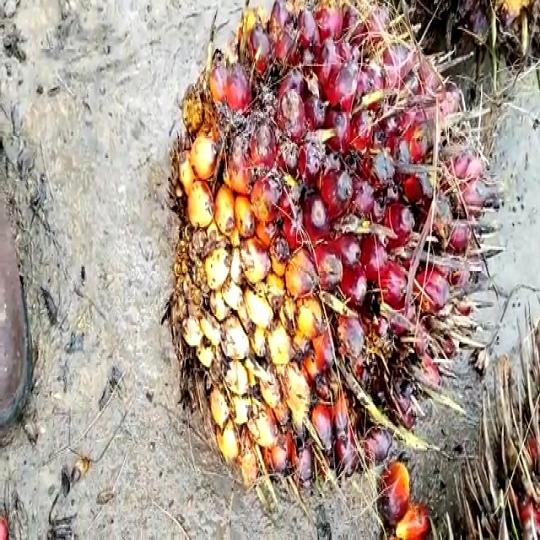kurang masak: (154, 0, 505, 494)
